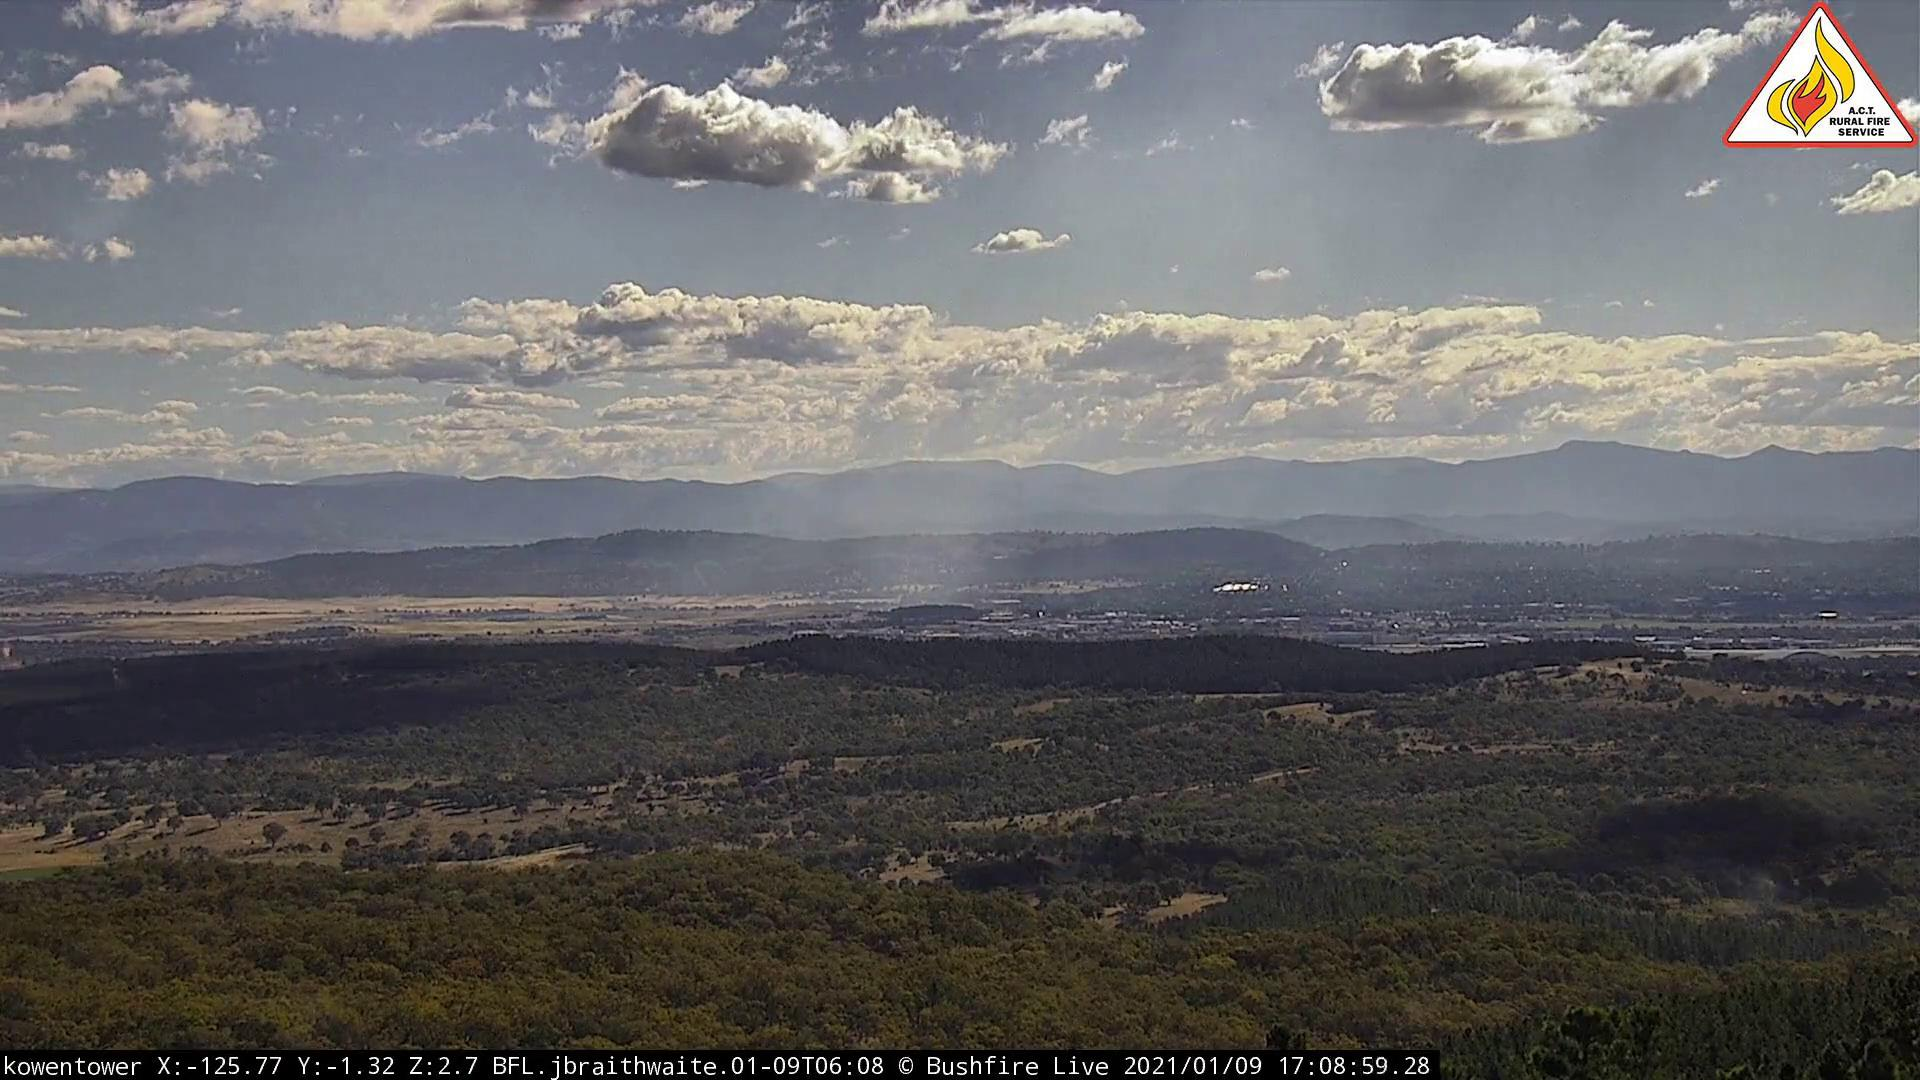Smoke: (728, 498, 1019, 612)
